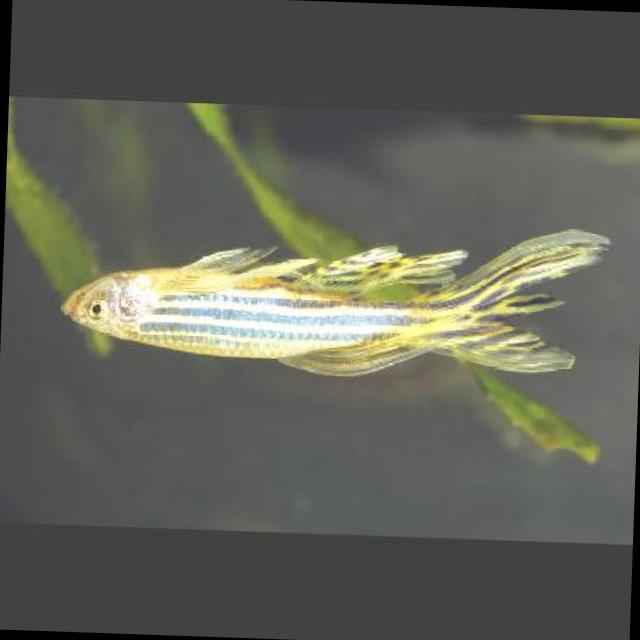ZebraFish: (60, 262, 426, 379)
